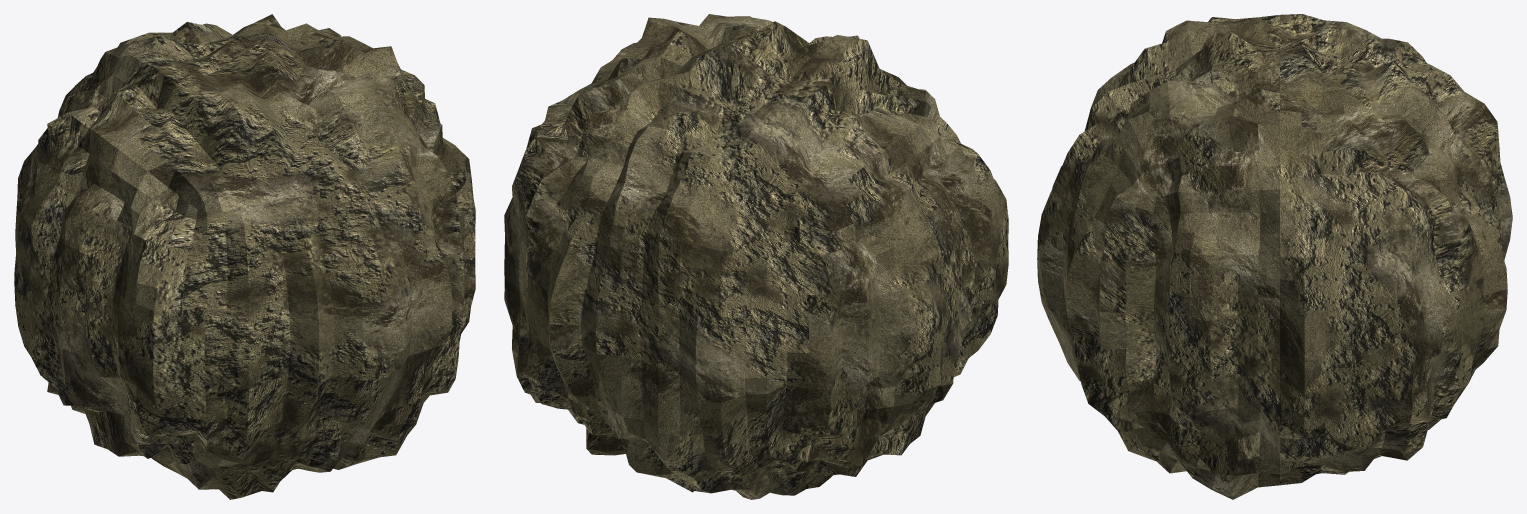
File: asteroid198.obj
The picture shows the model from 3 angles, left to right: view 1: azimuth 30°, elevation 25°; view 2: azimuth 150°, elevation 25°; view 3: azimuth 270°, elevation 25°; orthographic projection.
Visible parts, largest first — view 1: Cube_Cube.002; view 2: Cube_Cube.002; view 3: Cube_Cube.002.
Part boxes in pixels (left/top/right/bottom): Cube_Cube.002: left=14, top=14, right=475, bottom=499; Cube_Cube.002: left=504, top=14, right=1008, bottom=499; Cube_Cube.002: left=1037, top=14, right=1512, bottom=499.
Bounding box in the file's own units: 1.75 × 1.75 × 1.73.
